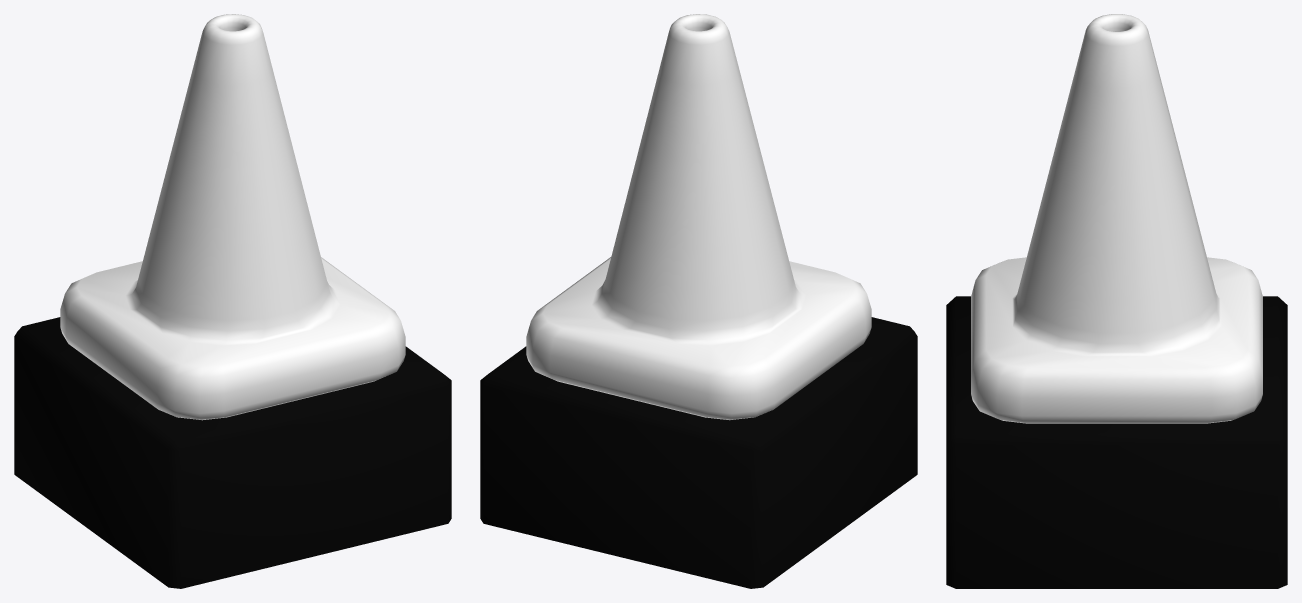
The model's file is Traffic_cone.fbx.
The picture shows the model from 3 angles, left to right: view 1: azimuth 30°, elevation 25°; view 2: azimuth 150°, elevation 25°; view 3: azimuth 270°, elevation 25°; orthographic projection. The views are drawn at different scales.
Parts seen in each view (by area): view 1: Traffic cone; view 2: Traffic cone; view 3: Traffic cone.
Boxes of the visible parts, x1,y1,x2,y2 form: Traffic cone: [14, 14, 451, 588]; Traffic cone: [480, 14, 917, 588]; Traffic cone: [946, 14, 1287, 588].
Bounding box in the file's own units: 79.47 × 127 × 79.47.
